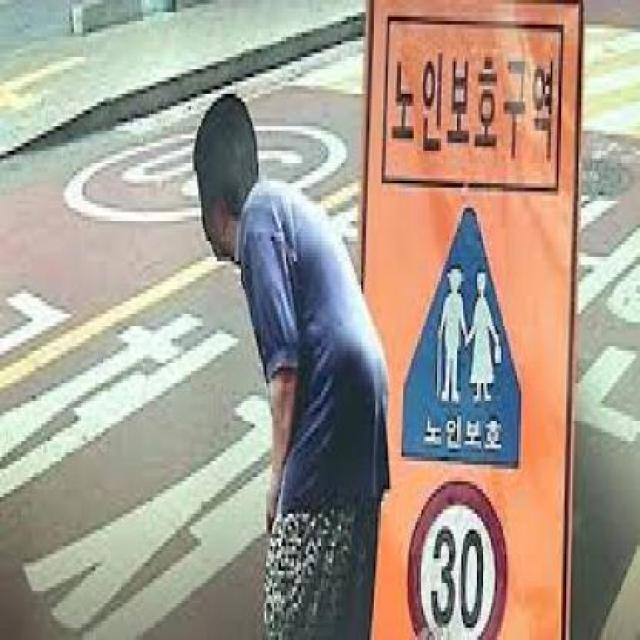-: (193, 93, 387, 636)
